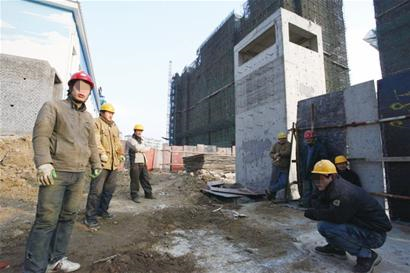helmet: (312, 159, 337, 174), (68, 70, 93, 82), (99, 102, 115, 113), (335, 156, 347, 165), (303, 131, 316, 138), (133, 123, 145, 130), (277, 132, 287, 138)
person: (22, 70, 93, 273), (304, 159, 393, 273), (85, 102, 125, 229), (124, 123, 159, 205), (300, 129, 324, 210), (266, 130, 293, 199), (335, 153, 364, 190)
